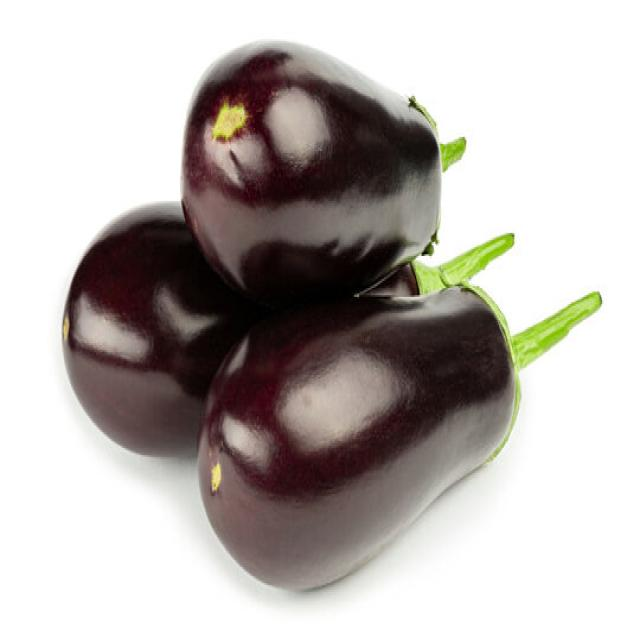Eggplant: (196, 277, 602, 592), (53, 194, 506, 454), (179, 36, 462, 302)
Lemon: (211, 100, 246, 140)
